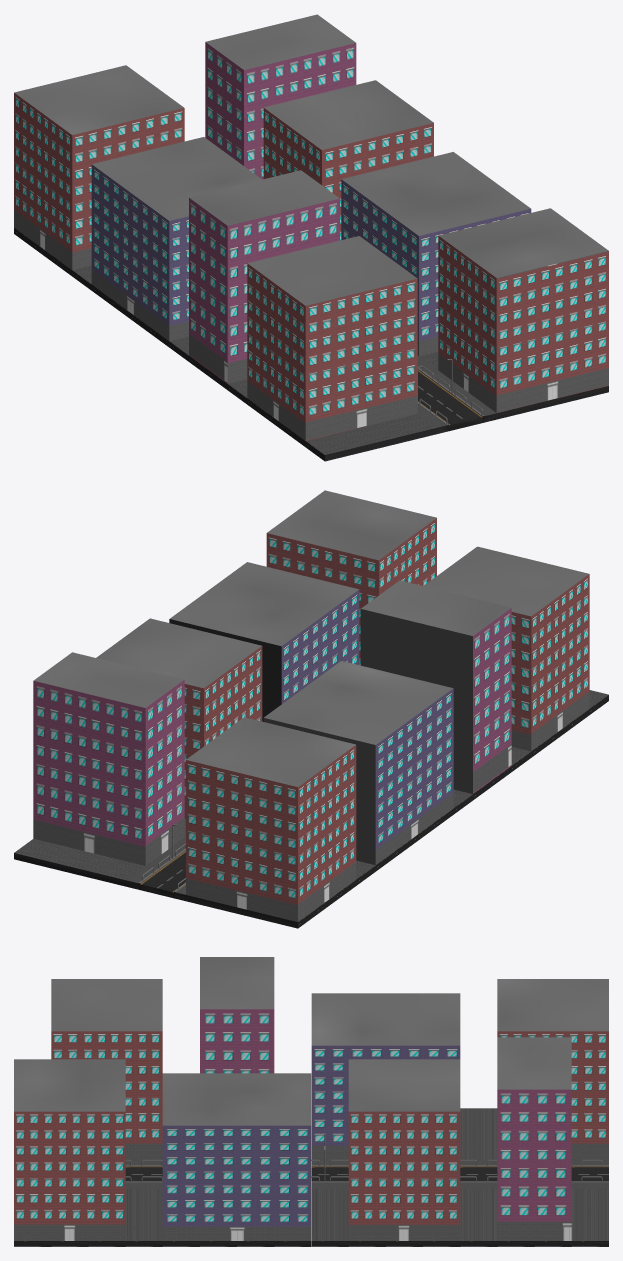
File: road.fbx
3 views of the same model, one above another, from view 1: azimuth 30°, elevation 25°; view 2: azimuth 150°, elevation 25°; view 3: azimuth 270°, elevation 25° (orthographic). The views are drawn at different scales.
Visible parts, largest first — view 1: Cylinder.003; view 2: Cylinder.003; view 3: Cylinder.003.
Part boxes in pixels (x1=…): Cylinder.003: x1=14, y1=14, x2=608, y2=461; Cylinder.003: x1=14, y1=490, x2=608, y2=928; Cylinder.003: x1=14, y1=957, x2=608, y2=1246.
Size of the model in its own units: 5063 by 2800 by 9600.
